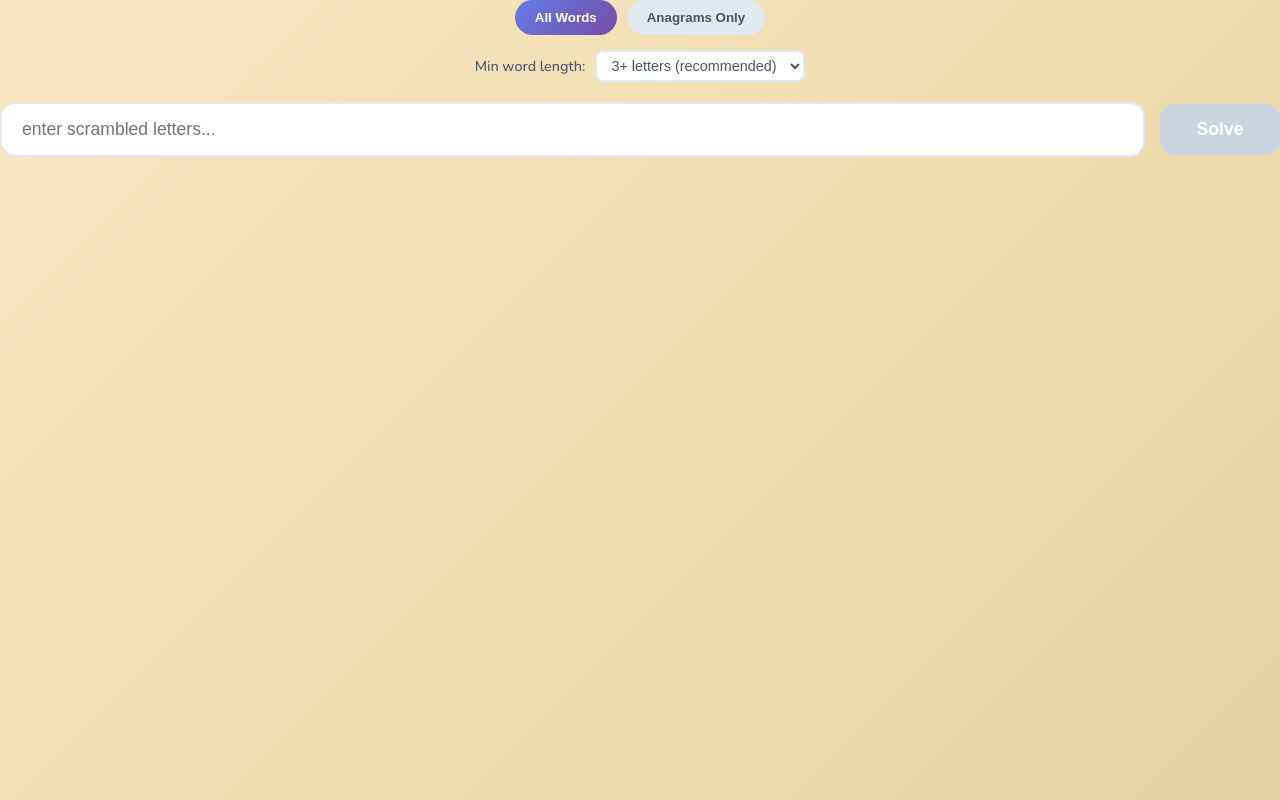
Test: WordSolver Component › handles API errors gracefully
The image size is (1280, 800).
Type "test" into the field with placeholder "Enter scrambled letters...". click: (572, 130)
box: [0,102,1145,157]
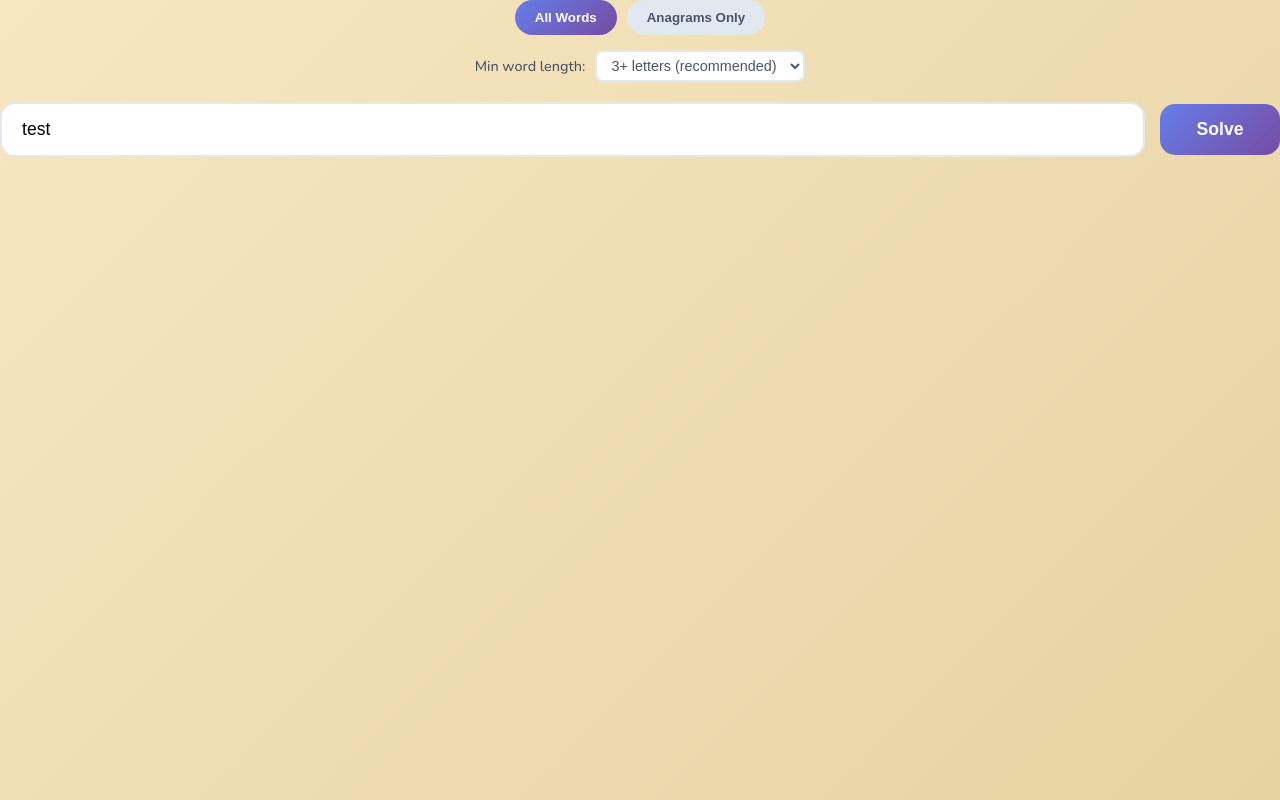
Click the button "Solve". click: (1220, 130)
box: [1160,104,1279,155]
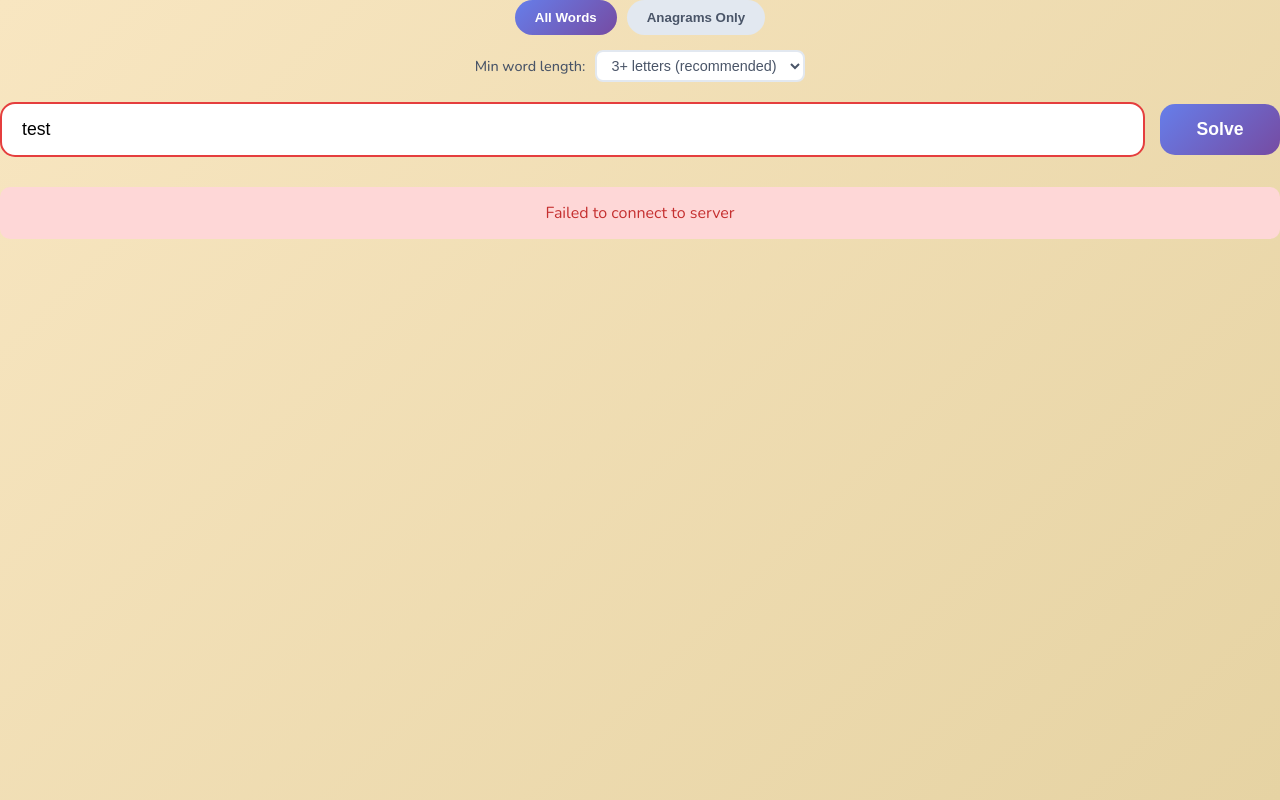
Expected: the text "Failed to connect to server" is shown, [0,187,1279,239]
